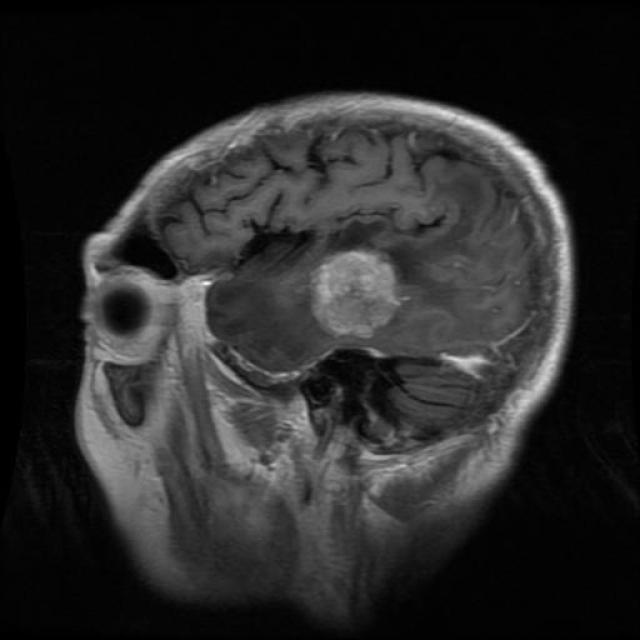meningioma: (311, 252, 400, 340)
